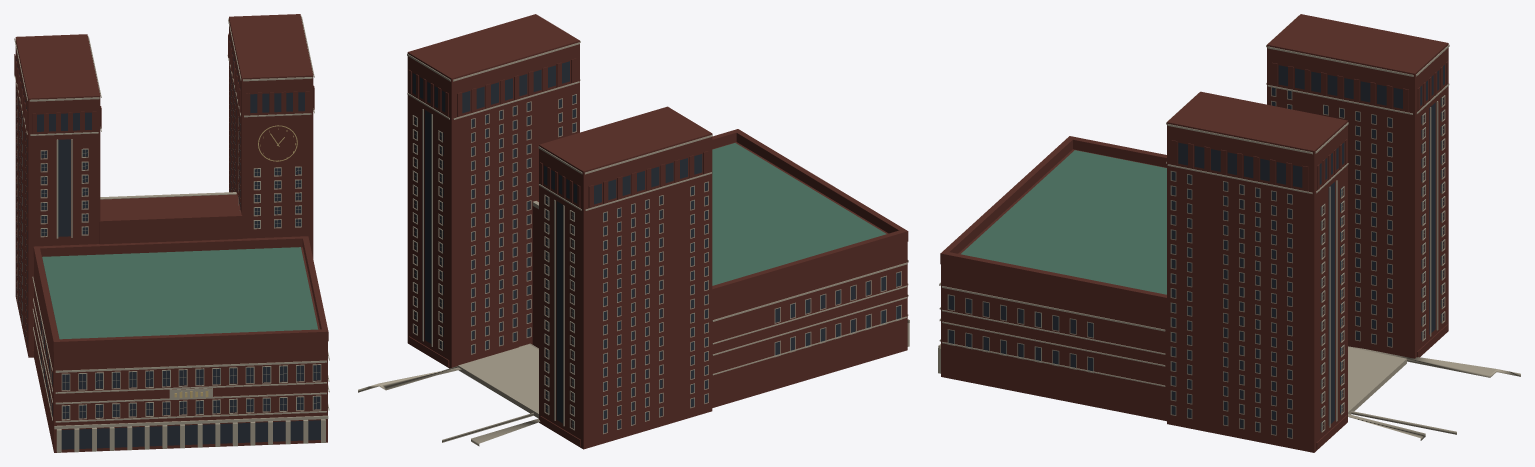
Rendered from oslo-city-hall-near.glb.
3 renders of one model, left to right at view 1: azimuth 30°, elevation 25°; view 2: azimuth 150°, elevation 25°; view 3: azimuth 270°, elevation 25°, orthographic. The views are drawn at different scales.
Parts seen in each view (by area): view 1: oslo-city-hall-0-brick, oslo-city-hall-0-copper, oslo-city-hall-0-stone, oslo-city-hall-0-glass, oslo-city-hall-0-brass; view 2: oslo-city-hall-0-brick, oslo-city-hall-0-stone, oslo-city-hall-0-glass, oslo-city-hall-0-copper; view 3: oslo-city-hall-0-brick, oslo-city-hall-0-stone, oslo-city-hall-0-copper, oslo-city-hall-0-glass.
Part boxes in pixels (box(x1,y1,x2,y2)): oslo-city-hall-0-brick: box(14, 14, 328, 452); oslo-city-hall-0-copper: box(42, 247, 318, 339); oslo-city-hall-0-stone: box(14, 15, 329, 452); oslo-city-hall-0-glass: box(16, 38, 320, 449); oslo-city-hall-0-brass: box(174, 125, 297, 397); oslo-city-hall-0-brick: box(407, 14, 908, 449); oslo-city-hall-0-stone: box(358, 41, 909, 446); oslo-city-hall-0-glass: box(412, 61, 900, 432); oslo-city-hall-0-copper: box(712, 143, 886, 285); oslo-city-hall-0-brick: box(940, 14, 1448, 452); oslo-city-hall-0-stone: box(938, 16, 1520, 440); oslo-city-hall-0-copper: box(961, 150, 1166, 294); oslo-city-hall-0-glass: box(948, 65, 1444, 437).
Bounding box in the file's own units: 91.03 × 66 × 115.
